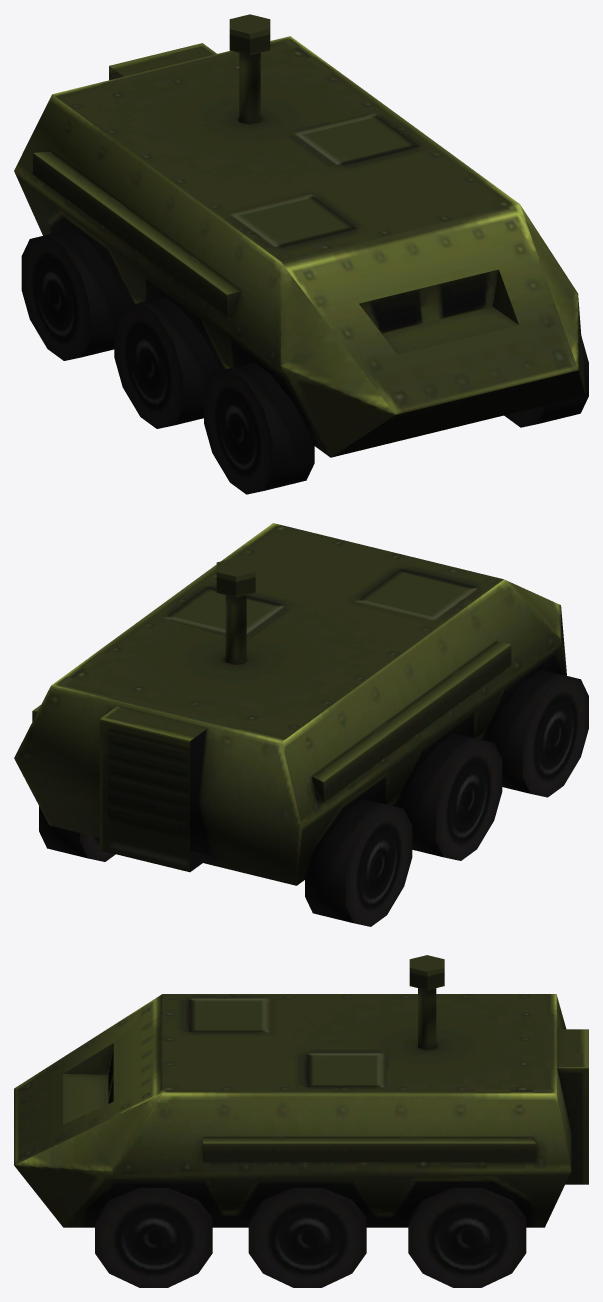
Rendered from M93A1_FOX.DAE.
3 renders of one model, top to bottom at view 1: azimuth 30°, elevation 25°; view 2: azimuth 150°, elevation 25°; view 3: azimuth 270°, elevation 25°, orthographic. The views are drawn at different scales.
Visible parts, largest first — view 1: _1116_M93A1_FOX; view 2: _1116_M93A1_FOX; view 3: _1116_M93A1_FOX.
Part boxes in pixels (x1,y1,x2,y2): _1116_M93A1_FOX: (14,14,588,494); _1116_M93A1_FOX: (14,523,588,926); _1116_M93A1_FOX: (14,955,588,1287).
Size of the model in its own units: 134 by 123 by 244.
Materials: 1 (1 with a texture image).
